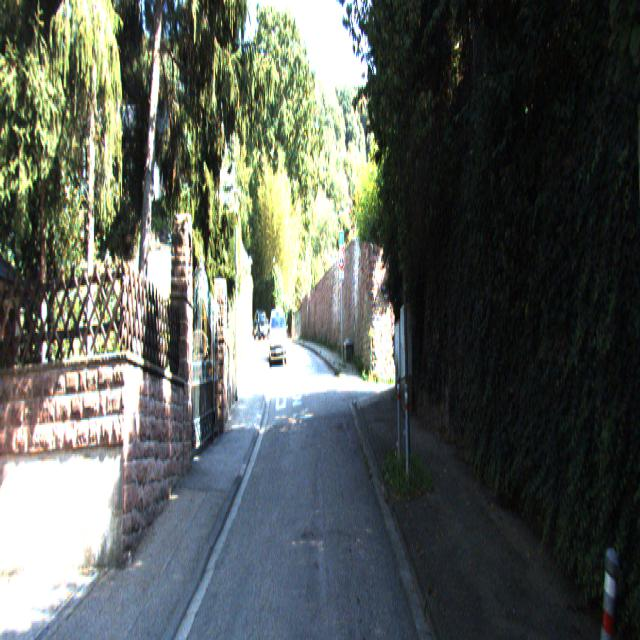Car: (268, 307, 286, 369), (254, 310, 270, 346)
